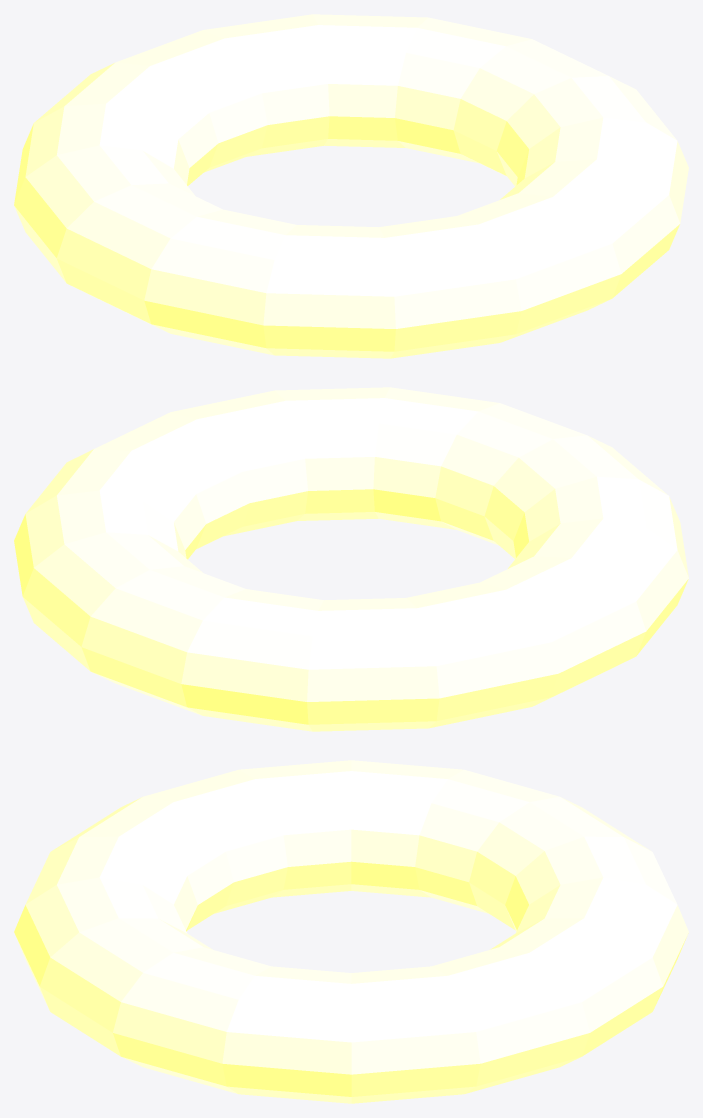
The model's file is BOA_LICHT.glb.
3 views of the same model, one above another, from view 1: azimuth 30°, elevation 25°; view 2: azimuth 150°, elevation 25°; view 3: azimuth 270°, elevation 25° (orthographic).
Bounding box in the file's own units: 0.0814 × 0.0145 × 0.0814.
